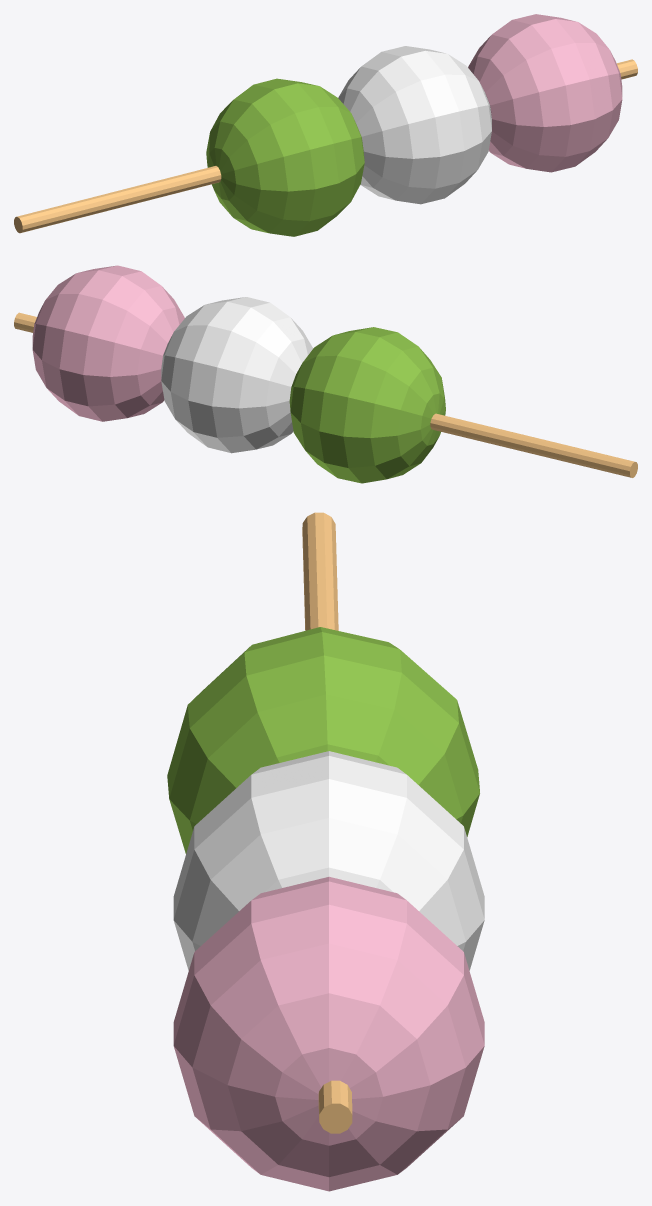
Rendered from dango.glb.
3 views of the same model, one above another, from view 1: azimuth 30°, elevation 25°; view 2: azimuth 150°, elevation 25°; view 3: azimuth 270°, elevation 25° (orthographic). The views are drawn at different scales.
Parts seen in each view (by area): view 1: group676438206, group1864304921, group2088680783, group595563834; view 2: group676438206, group1864304921, group2088680783, group595563834; view 3: group1864304921, group2088680783, group676438206, group595563834.
Boxes of the visible parts, box(x1,y1,x2,y2) form: group676438206: box(206, 78, 364, 236); group1864304921: box(468, 14, 622, 172); group2088680783: box(338, 46, 491, 204); group595563834: box(14, 59, 637, 233); group676438206: box(289, 327, 445, 483); group1864304921: box(32, 265, 184, 421); group2088680783: box(161, 297, 312, 453); group595563834: box(14, 312, 637, 477); group1864304921: box(173, 876, 484, 1191); group2088680783: box(173, 751, 484, 970); group676438206: box(167, 627, 479, 853); group595563834: box(302, 512, 352, 1133).
Bounding box in the file's own units: 0.7602 × 0.1676 × 0.1708.
